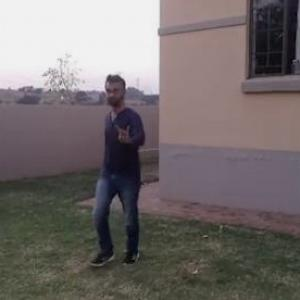takeoff-hand: (111, 113, 137, 148)
